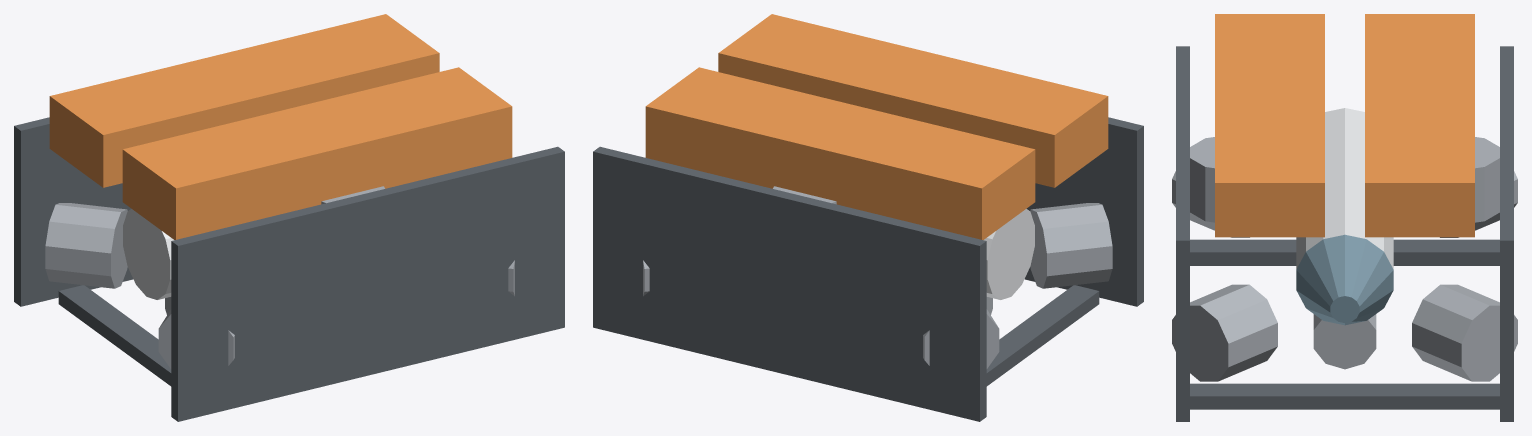
File: rov.glb
3 renders of one model, left to right at view 1: azimuth 30°, elevation 25°; view 2: azimuth 150°, elevation 25°; view 3: azimuth 270°, elevation 25°, orthographic. The views are drawn at different scales.
Size of the model in its own units: 0.46 by 0.2525 by 0.346.
